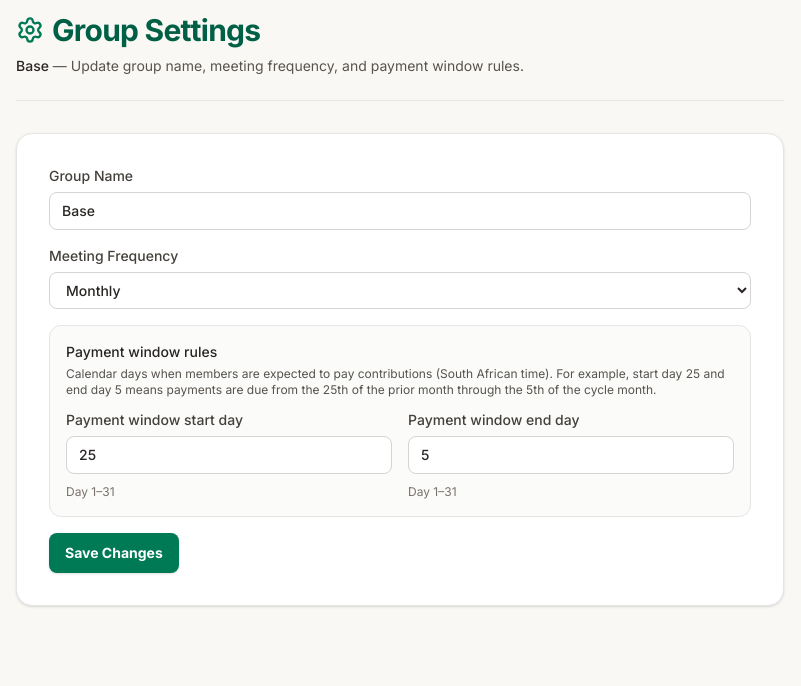
Scenario: Settings › shows client validation error for invalid payment window days
expect the field showing "Base" is shown: met, box [49,192,751,230]
Replace the text in the number field labelled "Payment window start day Day 1–31" with "32" at (229, 455), box [66,436,392,474]
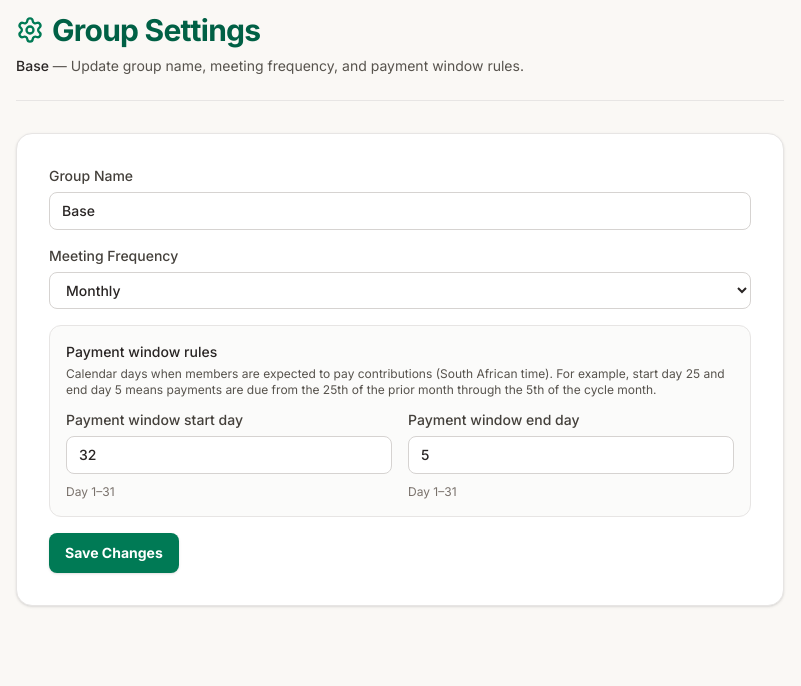
Click the button "Save Changes".
click(114, 553)  # box [49,533,179,573]
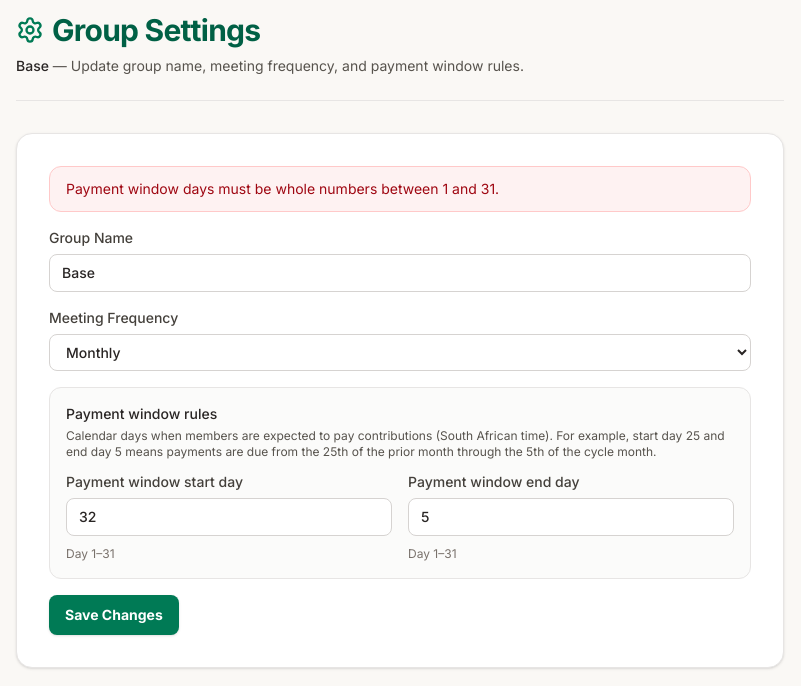
expect the text "Payment window days must be whole numbers between 1 and 31." is shown: met, box [49,166,751,212]
